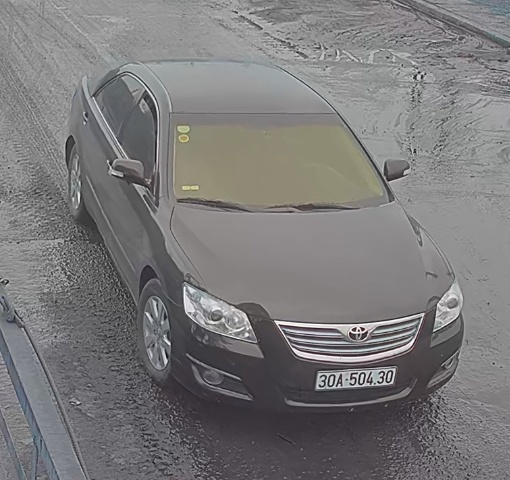vehicle plate: (316, 363, 402, 393)
